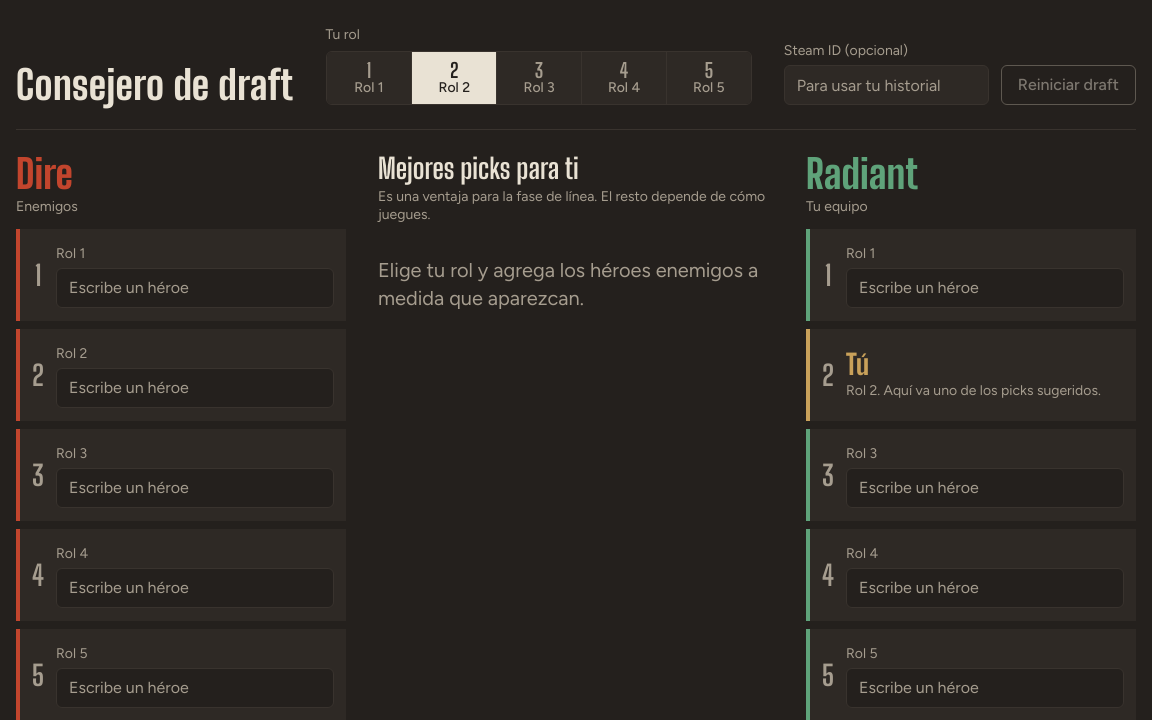
Test: App › elegir una sugerencia › no envía el pick propio a /suggest ni reordena la lista
Type "am" into the dropdown named "enemigo, posición 1" at (195, 288), box [56,268,334,308]
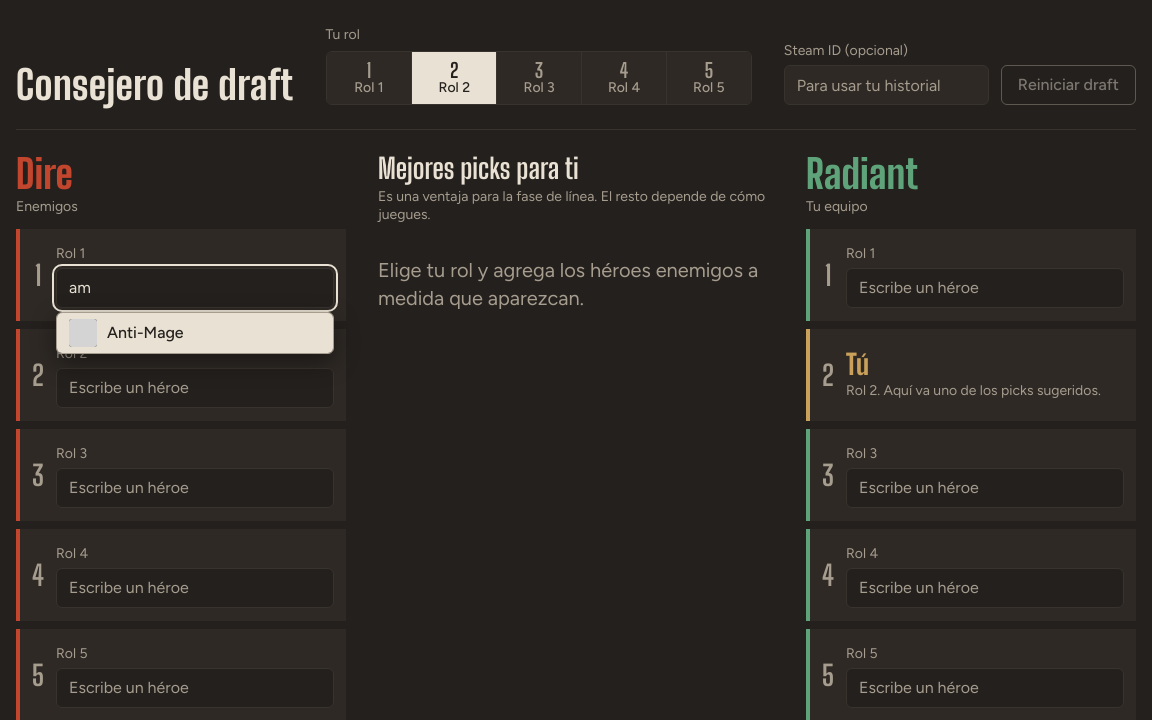
Result: the option "Anti-Mage" is shown at [57,312,333,352]
Press Enter
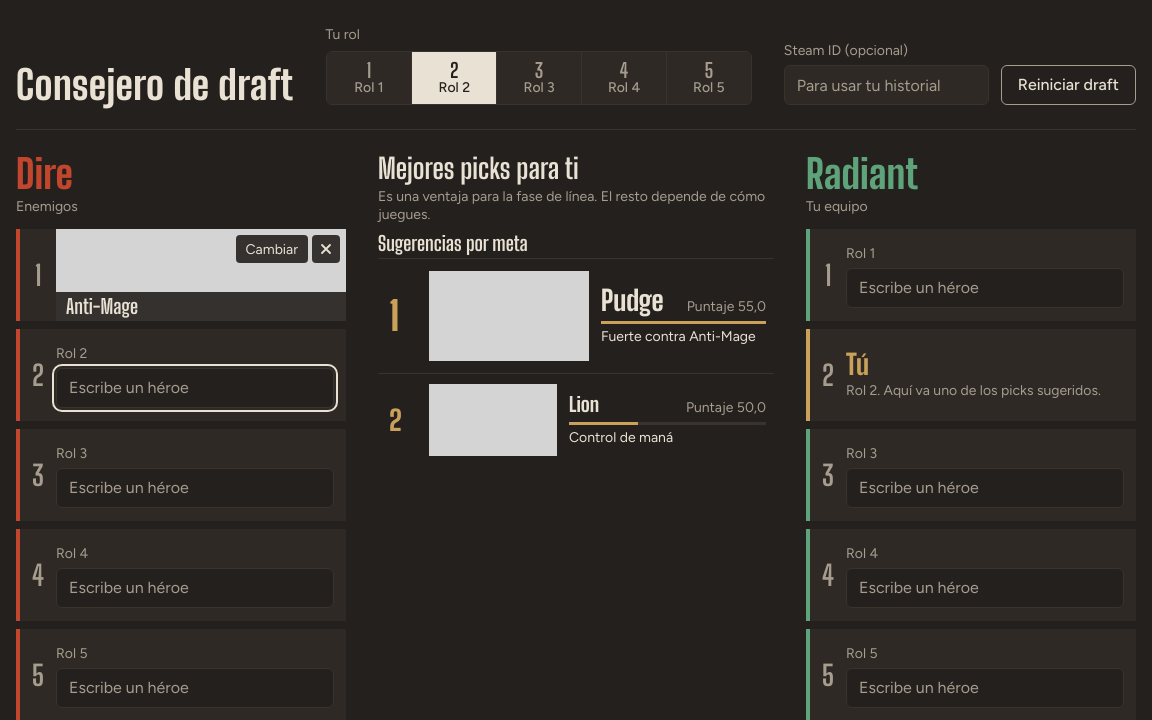
Click the button "2 Lion Puntaje 50,0 Control de maná" at (576, 420), box [378,374,774,466]
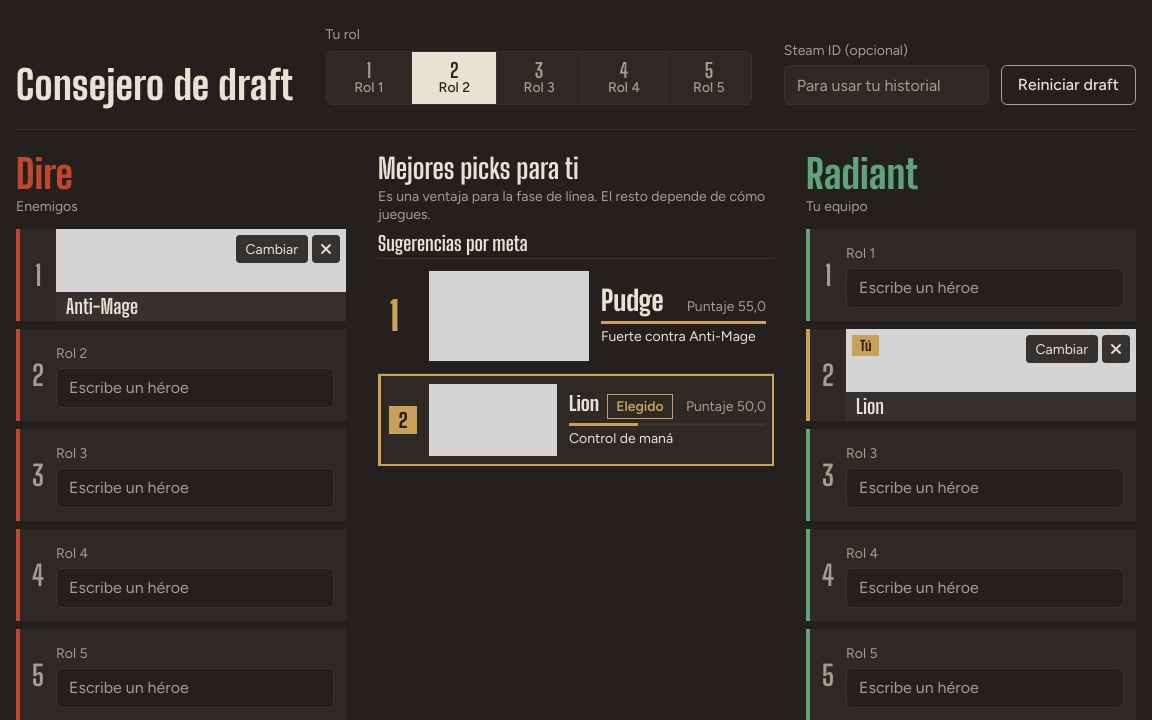
Result: the button "2 Lion Elegido Puntaje 50,0 Control de maná" is shown at [378,374,774,466]
